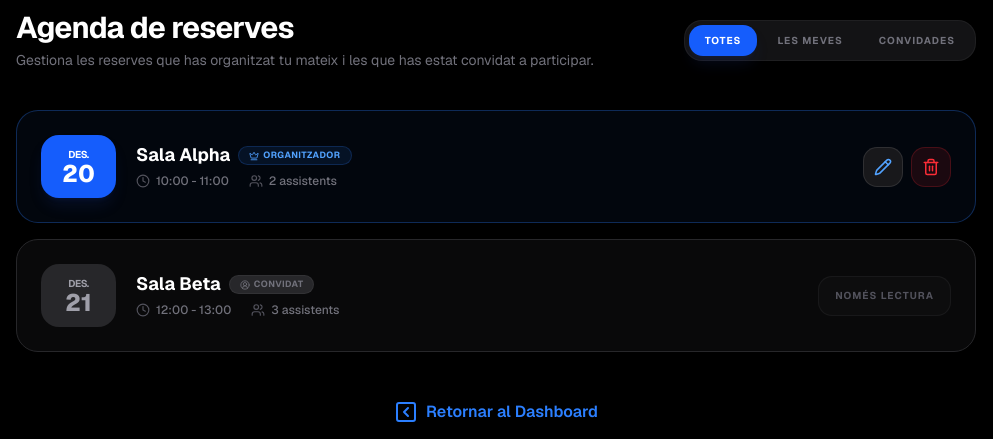
Test: LesMevesReservesPage (Agenda Empleat) › ha de filtrar només les reserves on sóc convidat
The width and height of the screenshot is (993, 439).
Expected: the heading "Sala Beta" is shown, [136,273,221,296]
What coordinates should you click on to do the following:
click the button "CONVIDADES"
I would click on:
 (917, 40)
Its box is [863,24,971,56].
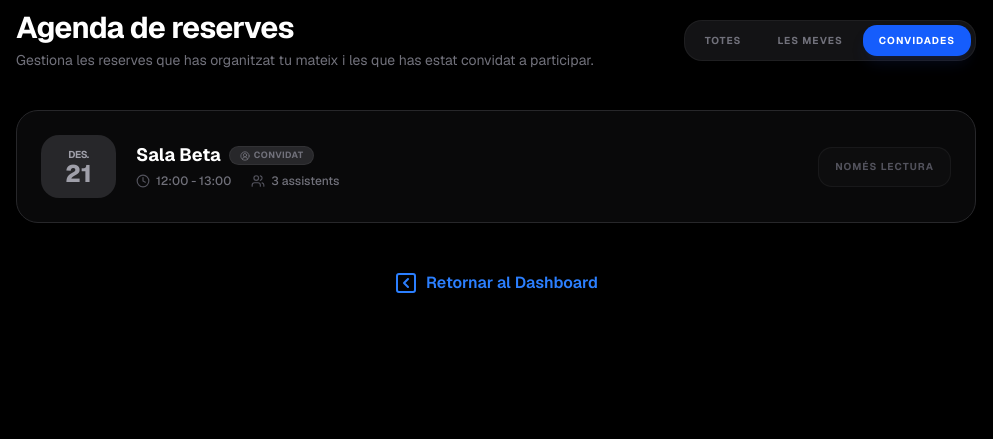
Expected: the heading "Sala Beta" is shown, [136,144,221,167]
Now the heading "Sala Alpha" is gone
